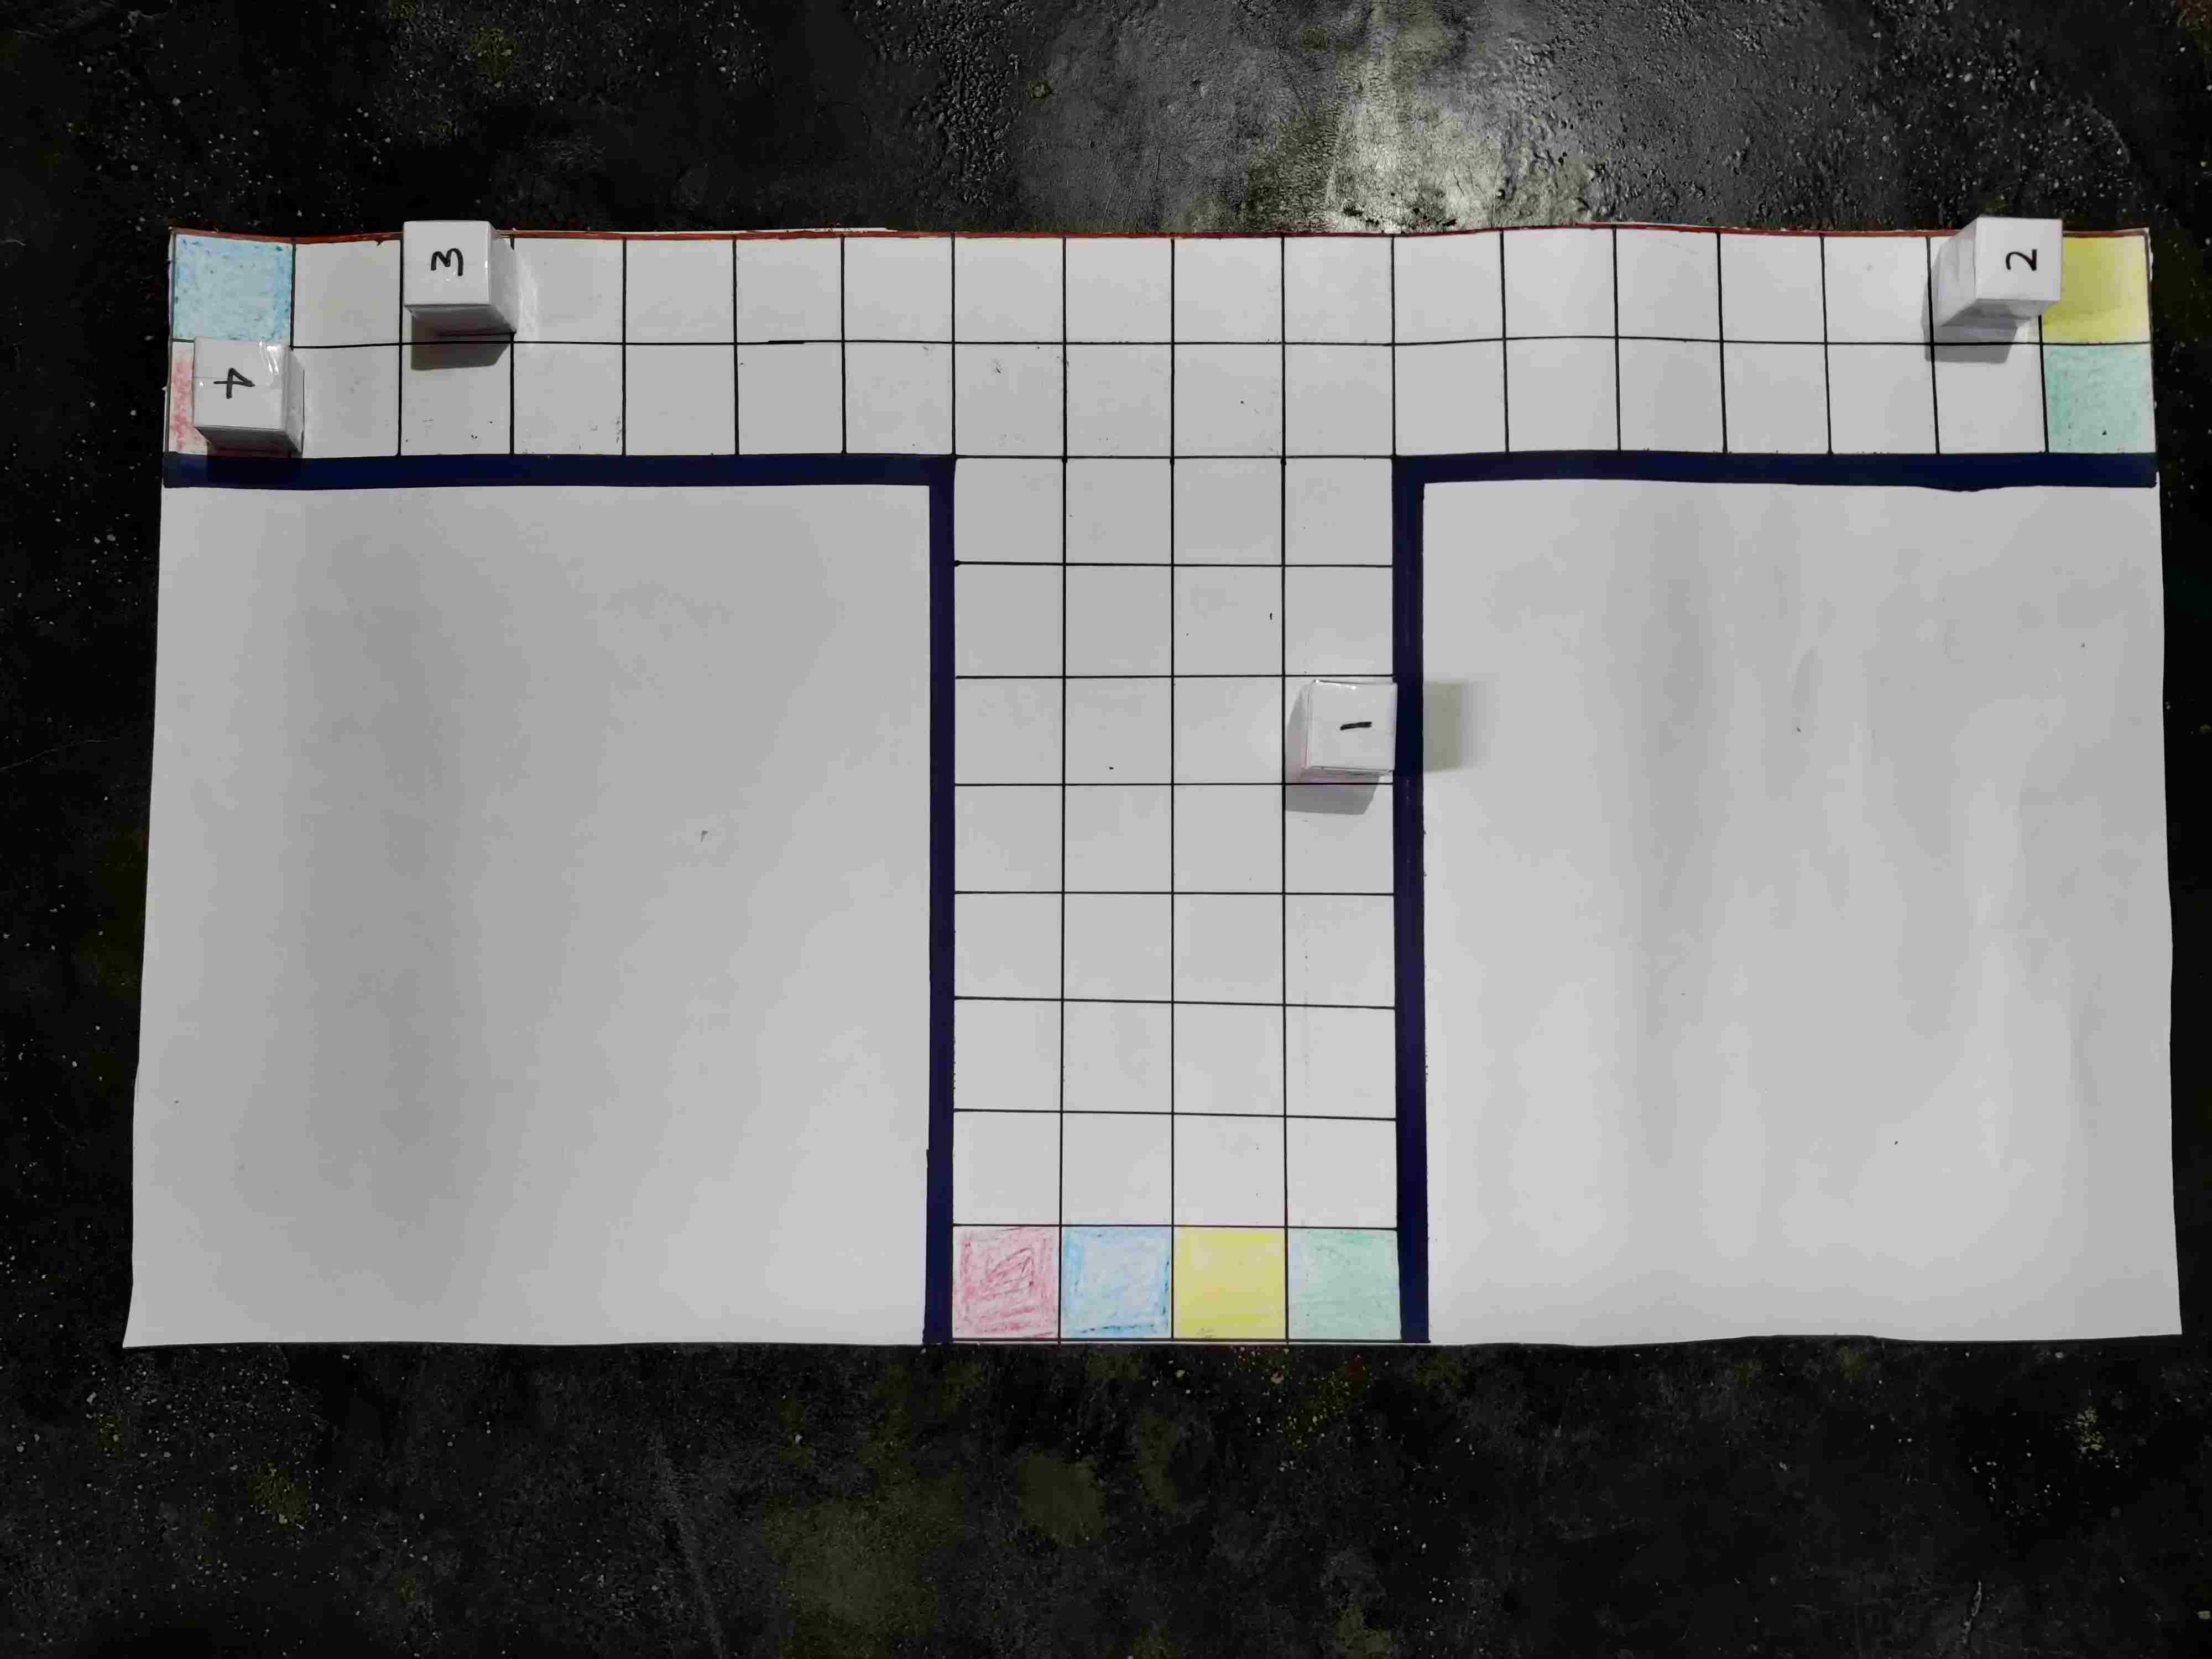arena: (63, 249, 2094, 1384)
bot: (827, 1168, 920, 1258), (951, 1284, 1049, 1368), (1543, 1171, 1632, 1258), (1205, 1298, 1289, 1378)
